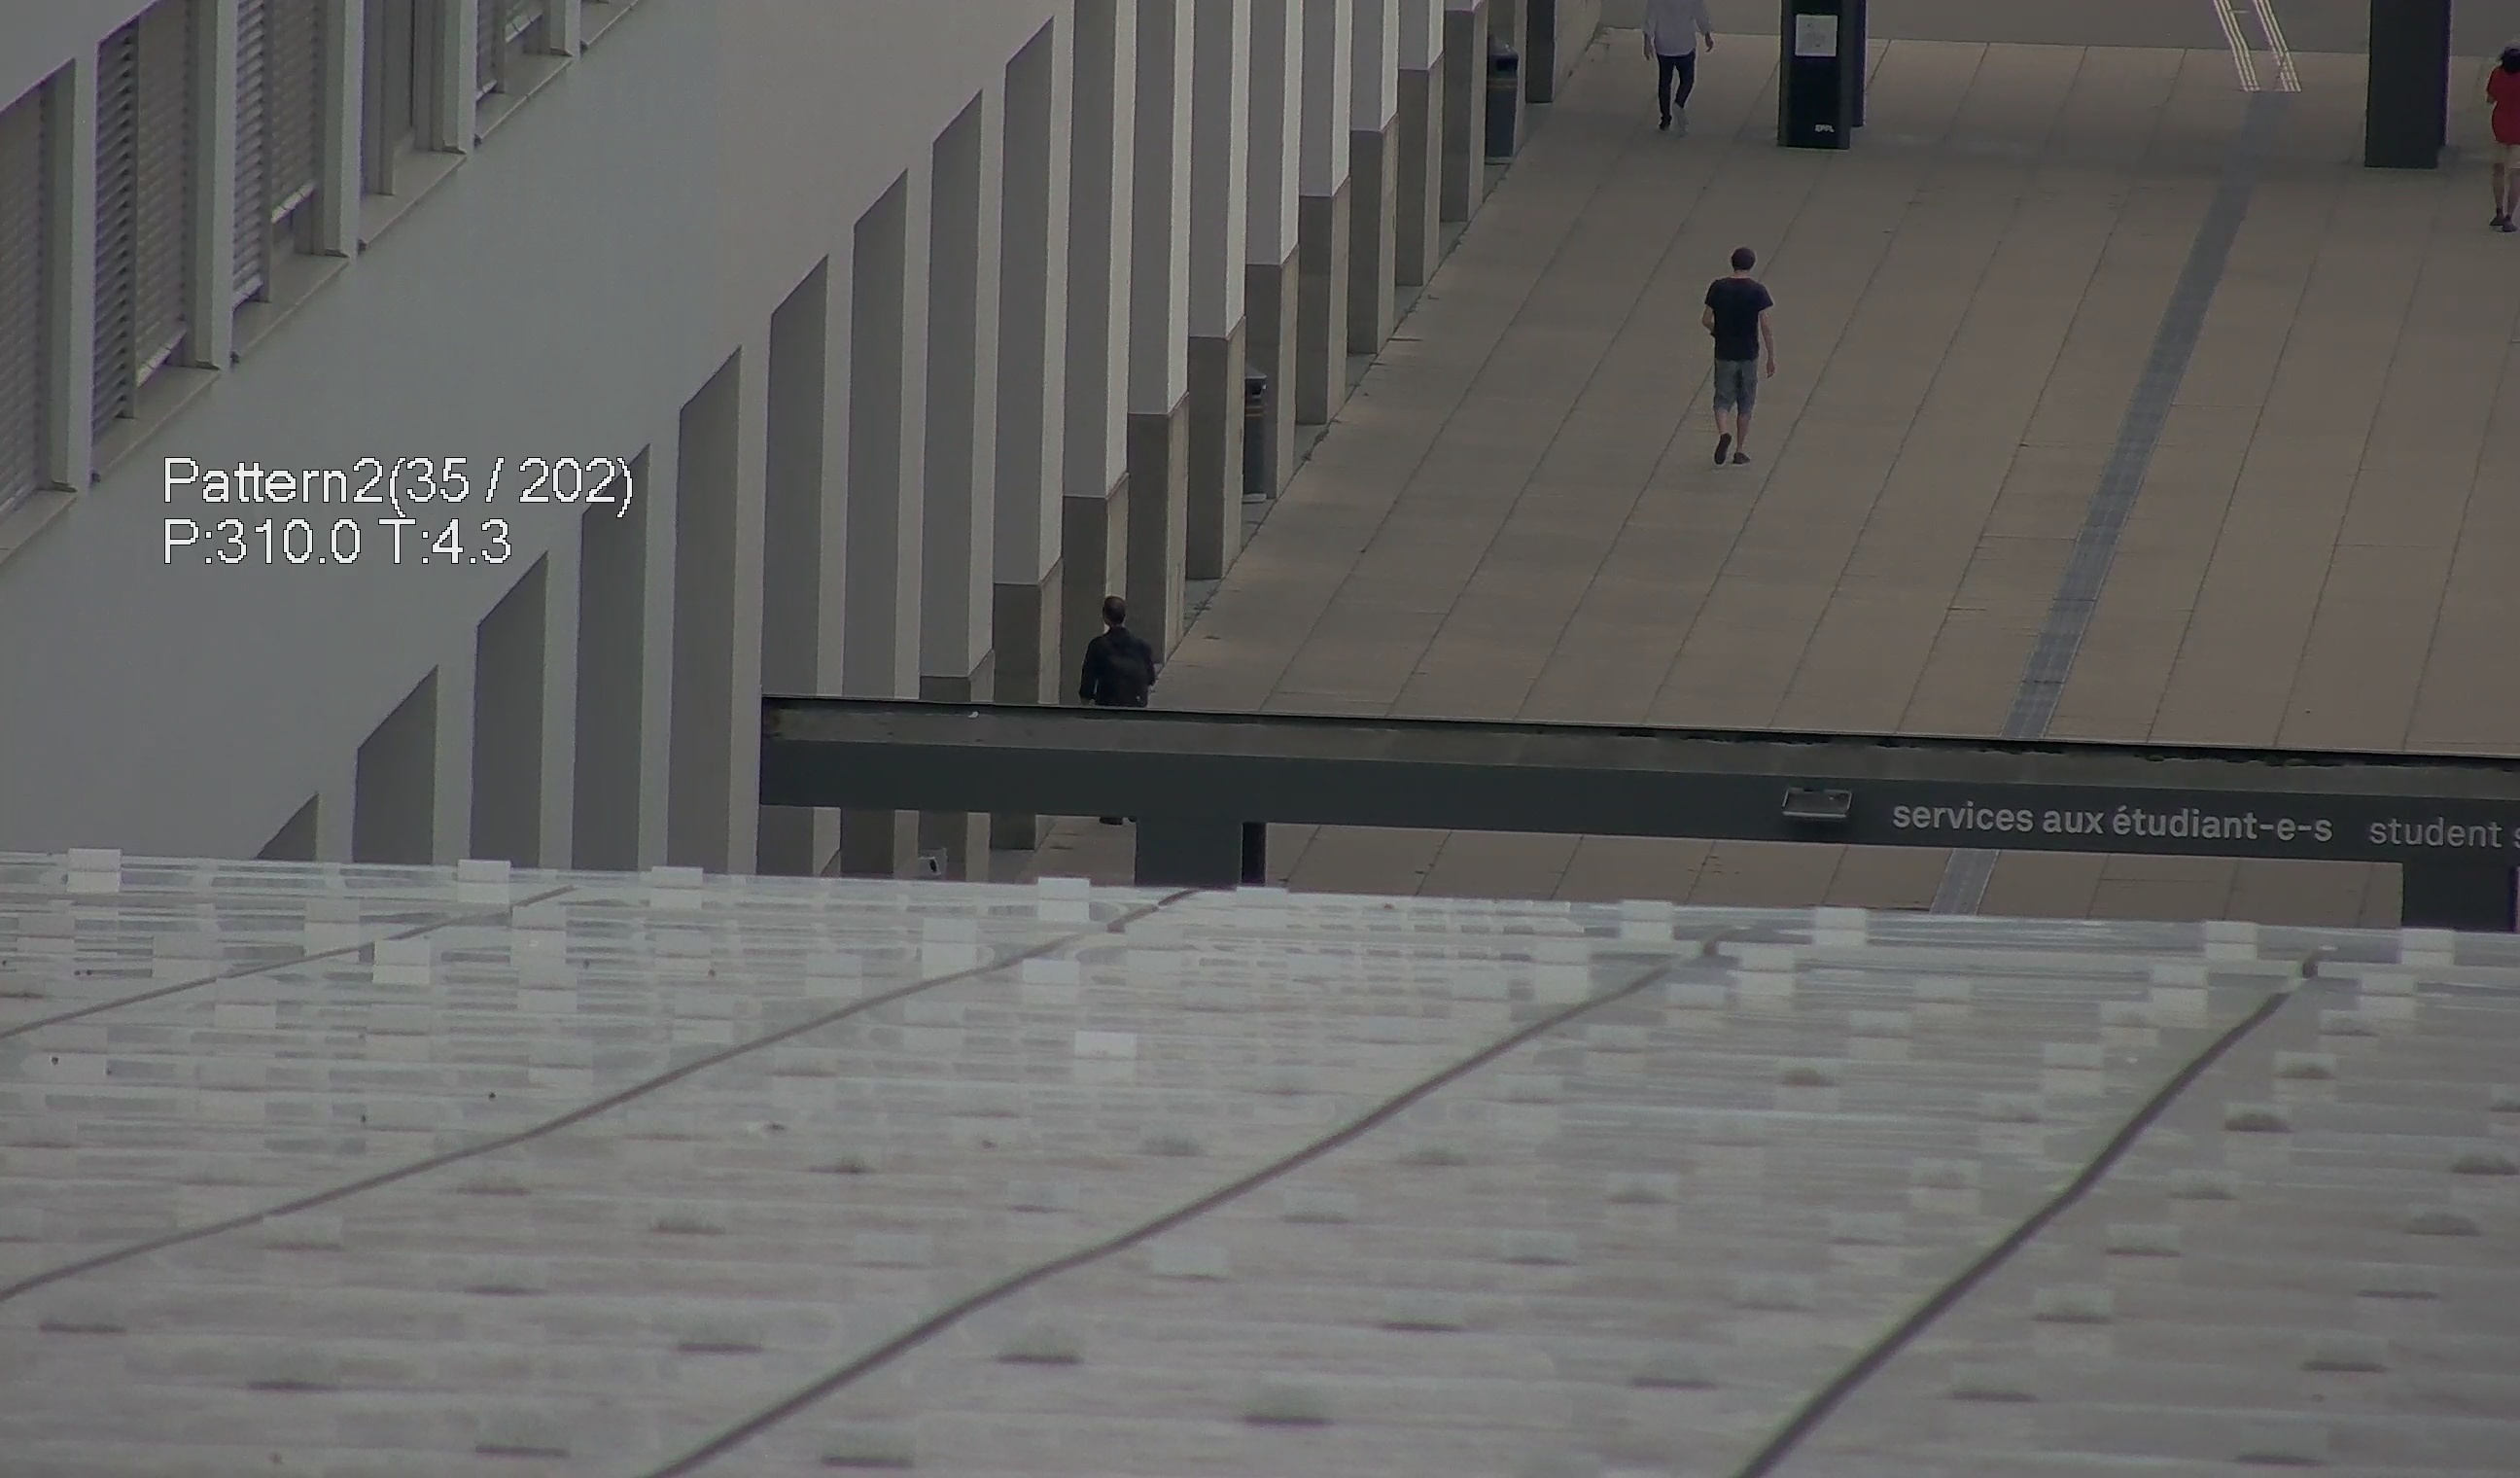Other: (1064, 584, 1159, 721)
